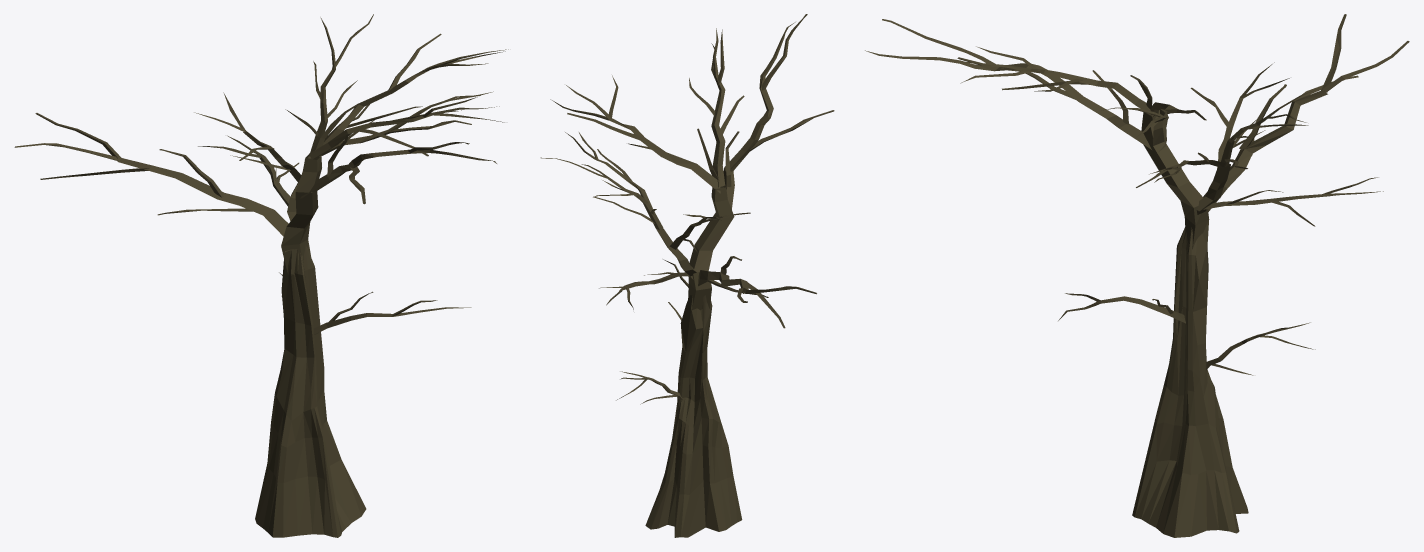
Rendered from ADDON_PLANTS_DEADTREE_01_1713P.OBJ.
3 renders of one model, left to right at view 1: azimuth 30°, elevation 25°; view 2: azimuth 150°, elevation 25°; view 3: azimuth 270°, elevation 25°, orthographic. The views are drawn at different scales.
Parts seen in each view (by area): view 1: ADDON_PLANTS_DEADTREE_01_1713P; view 2: ADDON_PLANTS_DEADTREE_01_1713P; view 3: ADDON_PLANTS_DEADTREE_01_1713P.
Part boxes in pixels (x1=…): ADDON_PLANTS_DEADTREE_01_1713P: x1=14, y1=14, x2=508, y2=537; ADDON_PLANTS_DEADTREE_01_1713P: x1=540, y1=14, x2=834, y2=537; ADDON_PLANTS_DEADTREE_01_1713P: x1=865, y1=14, x2=1409, y2=537.
Bounding box in the file's own units: 30.52 × 35.11 × 34.13.
